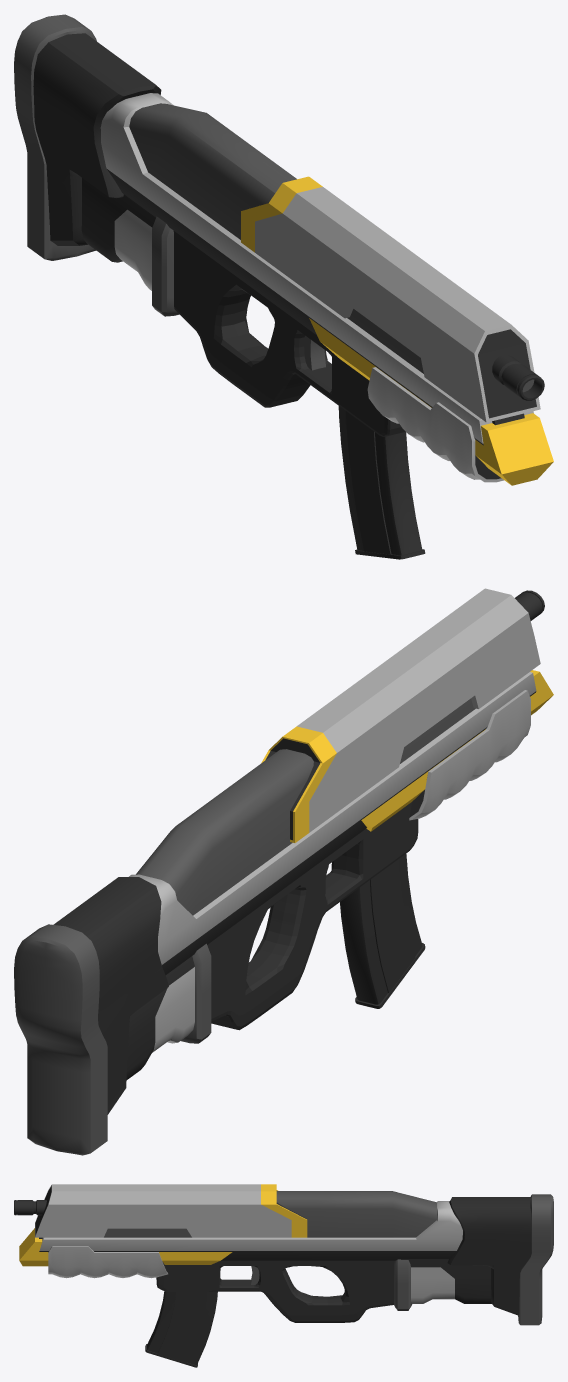
Rendered from swarm.glb.
The picture shows the model from 3 angles, top to bottom: view 1: azimuth 30°, elevation 25°; view 2: azimuth 150°, elevation 25°; view 3: azimuth 270°, elevation 25°; orthographic projection. The views are drawn at different scales.
Parts seen in each view (by area): view 1: Cube.142, Cube.222; view 2: Cube.142, Cube.222; view 3: Cube.142, Cube.222.
Part boxes in pixels (x1=…): Cube.142: x1=14, y1=14, x2=553, y2=485; Cube.222: x1=338, y1=406, x2=425, y2=559; Cube.142: x1=14, y1=588, x2=553, y2=1155; Cube.222: x1=340, y1=854, x2=425, y2=1008; Cube.142: x1=14, y1=1184, x2=553, y2=1325; Cube.222: x1=145, y1=1291, x2=217, y2=1367.
Bounding box in the file's own units: 0.0693 × 0.3071 × 0.85.
